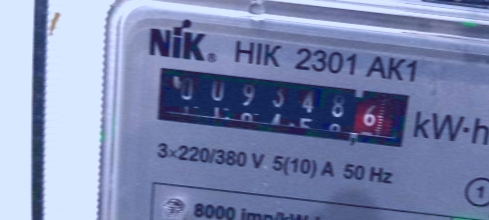0: (209, 75, 227, 100), (179, 72, 195, 99)
3: (270, 81, 286, 108)
4: (299, 84, 316, 113)
6: (360, 98, 380, 127)
8: (329, 89, 347, 118)
9: (239, 79, 257, 106)
screen: (145, 56, 420, 155)
